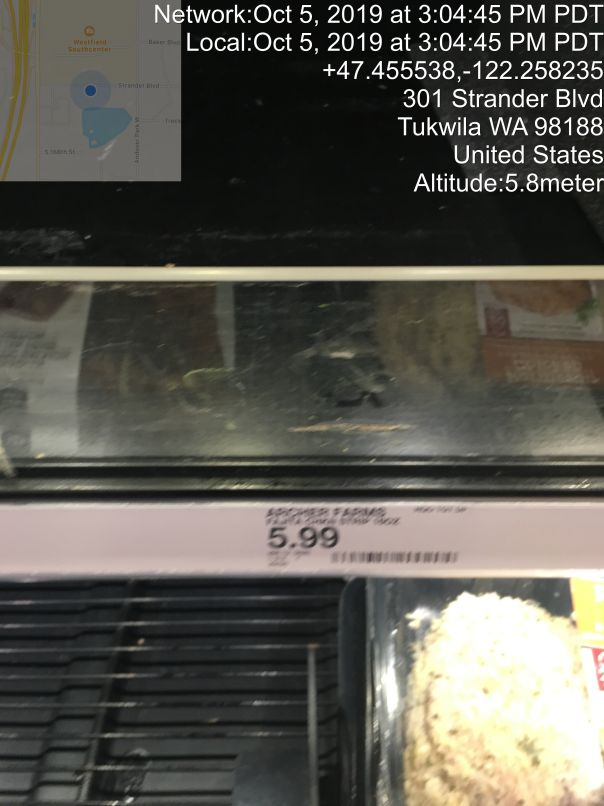Label: (259, 499, 481, 576)
Location: (391, 86, 604, 169)
Time: (146, 4, 604, 58)
Void: (13, 108, 507, 404), (12, 575, 319, 800)
